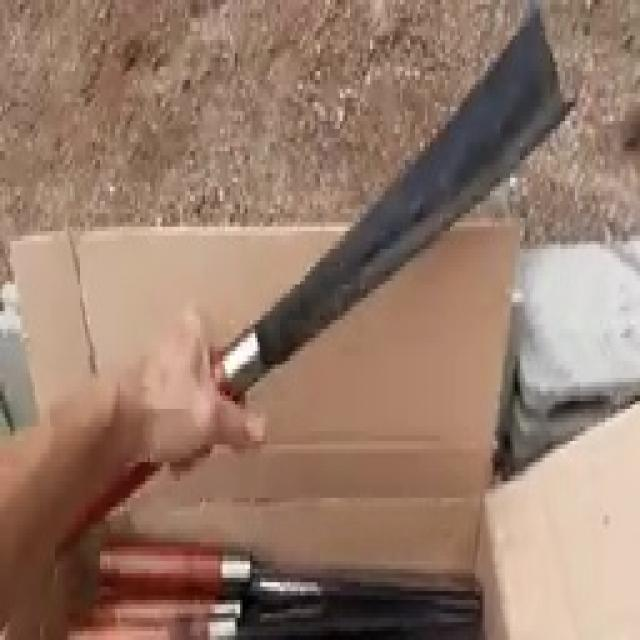eto: (49, 9, 569, 550)
